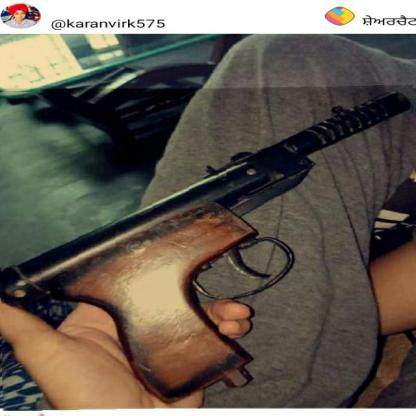handgun: (0, 86, 416, 409)
